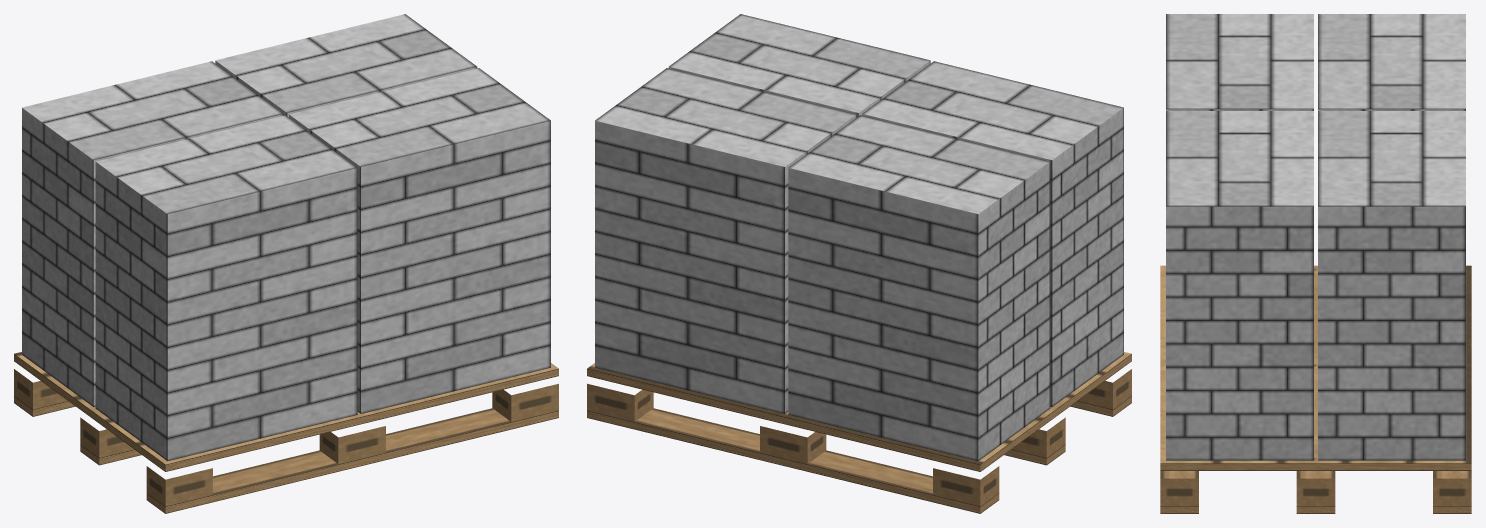
The model's file is paleta_cihly.glb.
3 renders of one model, left to right at view 1: azimuth 30°, elevation 25°; view 2: azimuth 150°, elevation 25°; view 3: azimuth 270°, elevation 25°, orthographic. The views are drawn at different scales.
Visible parts, largest first — view 1: paleta_cihly; view 2: paleta_cihly; view 3: paleta_cihly.
Part boxes in pixels (left/top/right/bottom): paleta_cihly: left=14, top=14, right=558, bottom=513; paleta_cihly: left=587, top=14, right=1131, bottom=513; paleta_cihly: left=1160, top=14, right=1471, bottom=513.
Bounding box in the file's own units: 1.2 × 0.864 × 0.8.
Materials: 1 (1 with a texture image).
